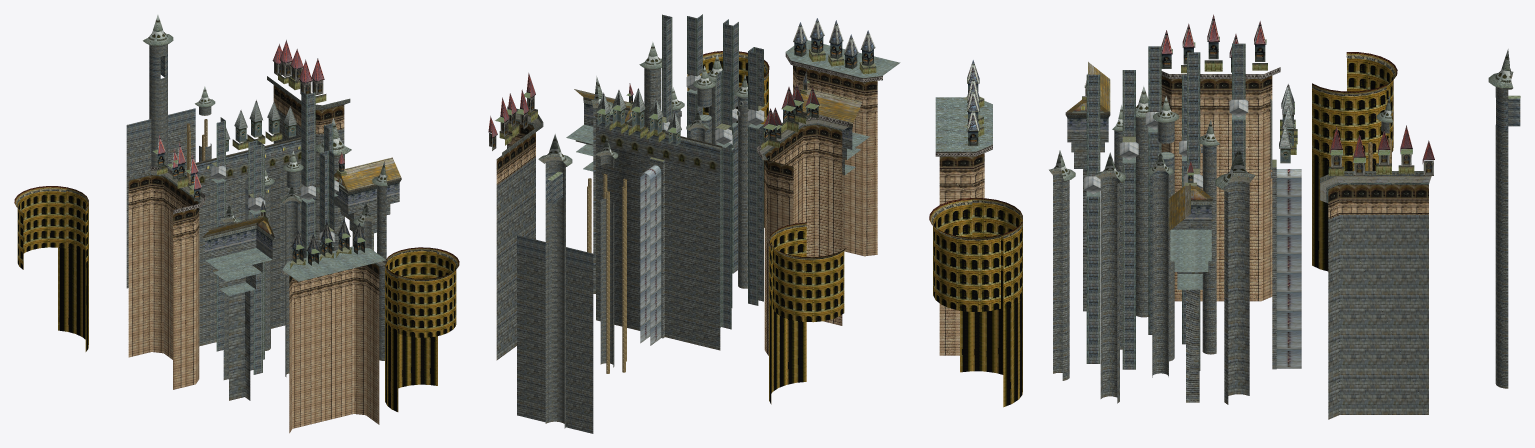
Rendered from Robot Storm 1.fbx.
3 renders of one model, left to right at view 1: azimuth 30°, elevation 25°; view 2: azimuth 150°, elevation 25°; view 3: azimuth 270°, elevation 25°, orthographic. The views are drawn at different scales.
Visible parts, largest first — view 1: Object_5.001, Object_2.006, Object_7.001, Object_3.001, Object_6.001; view 2: Object_2.006, Object_3.001, Object_5.001, Object_7.001, Object_6.001; view 3: Object_3.001, Object_7.001, Object_2.006, Object_6.001, Object_5.001.
Boxes of the visible parts, x1=… form: Object_5.001: x1=173, y1=140, x2=385, y2=433; Object_2.006: x1=14, y1=33, x2=273, y2=359; Object_7.001: x1=301, y1=92, x2=459, y2=411; Object_3.001: x1=152, y1=14, x2=351, y2=328; Object_6.001: x1=283, y1=125, x2=386, y2=424; Object_2.006: x1=560, y1=74, x2=846, y2=433; Object_3.001: x1=488, y1=20, x2=695, y2=423; Object_5.001: x1=716, y1=18, x2=900, y2=325; Object_7.001: x1=566, y1=14, x2=769, y2=227; Object_6.001: x1=693, y1=14, x2=807, y2=273; Object_3.001: x1=1191, y1=49, x2=1520, y2=419; Object_7.001: x1=929, y1=52, x2=1213, y2=407; Object_2.006: x1=1169, y1=14, x2=1513, y2=353; Object_6.001: x1=935, y1=70, x2=1179, y2=369; Object_5.001: x1=935, y1=23, x2=1195, y2=344.
Bounding box in the file's own units: 831554 × 679436 × 1058552.
